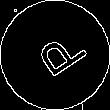P_SW: (24, 26, 86, 84)
